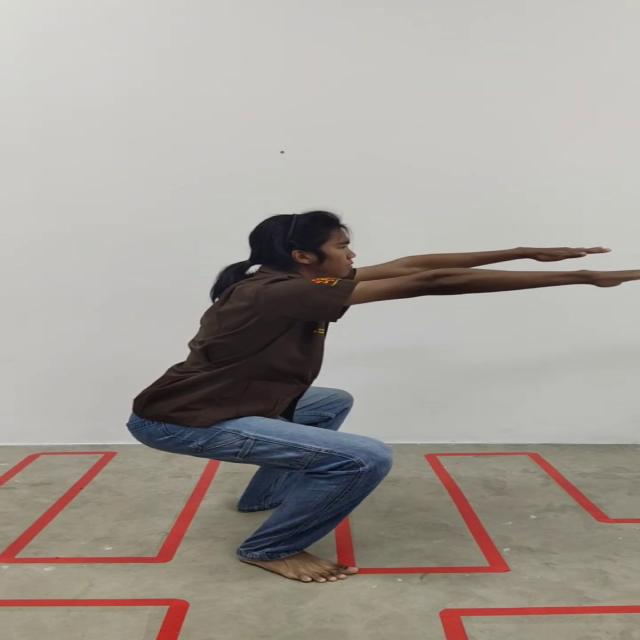squat: (128, 210, 625, 585)
